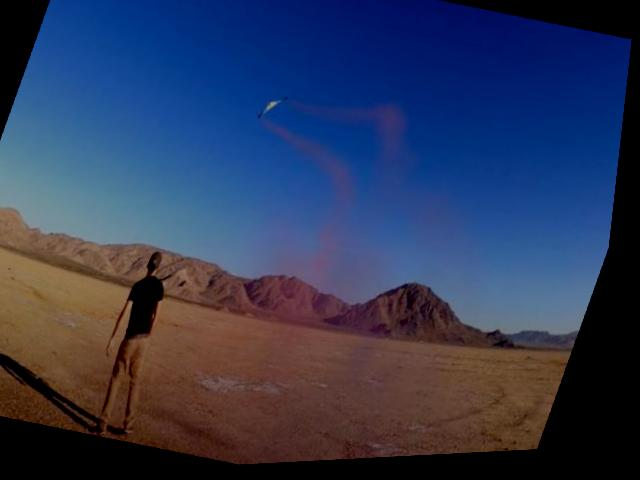iha: (260, 95, 291, 128)
